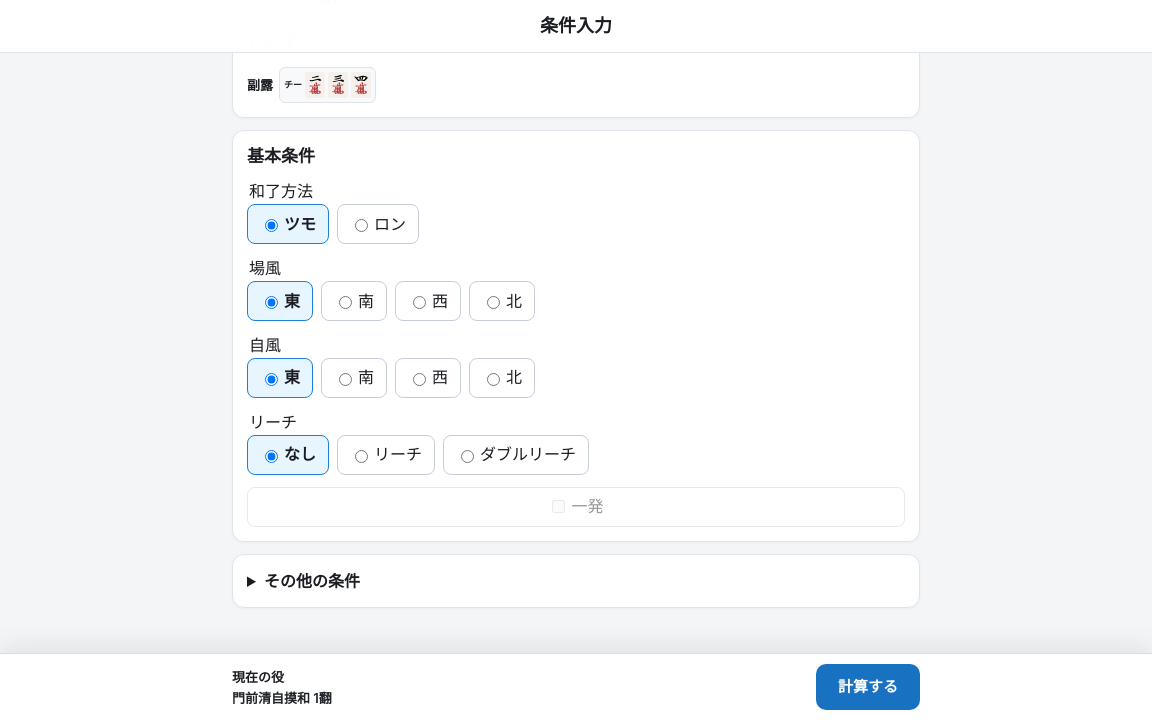
Scenario: ConditionsPageView › uses policy-normalized state to clear dependent selections after ordinary condition changes
(page scrolled)
Click the heading "その他の条件": (312, 581) [264,571,360,591]
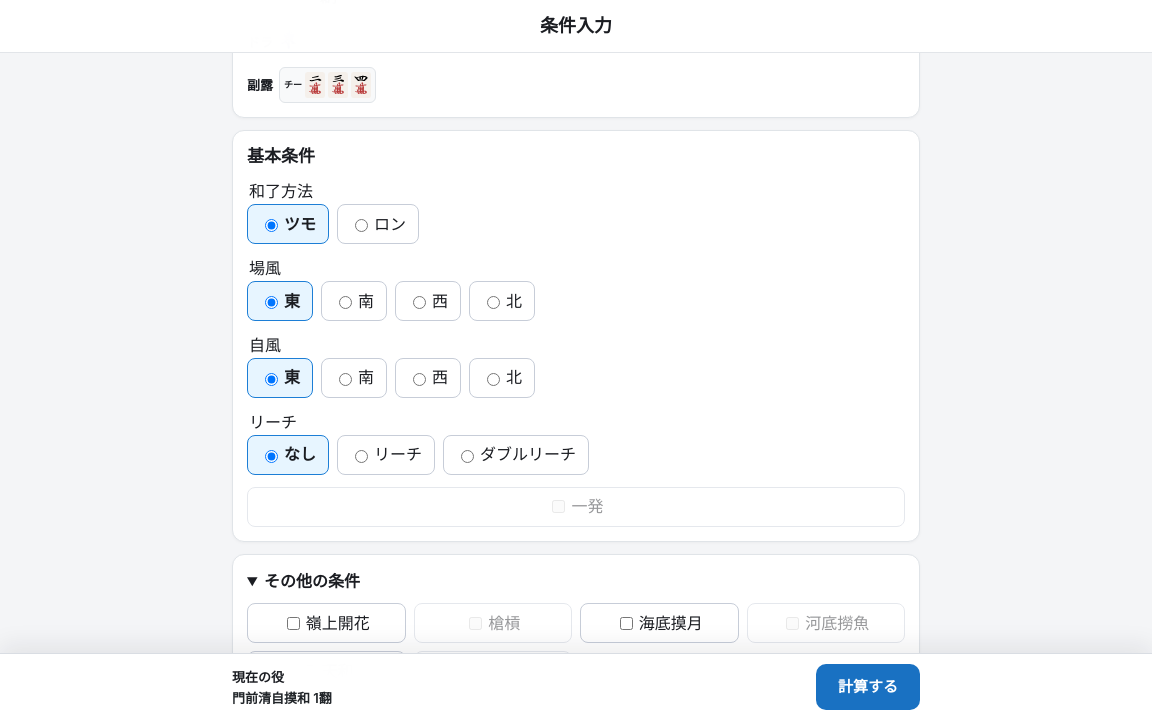
Click the checkbox labelled "嶺上開花": (293, 623) [287,617,300,630]
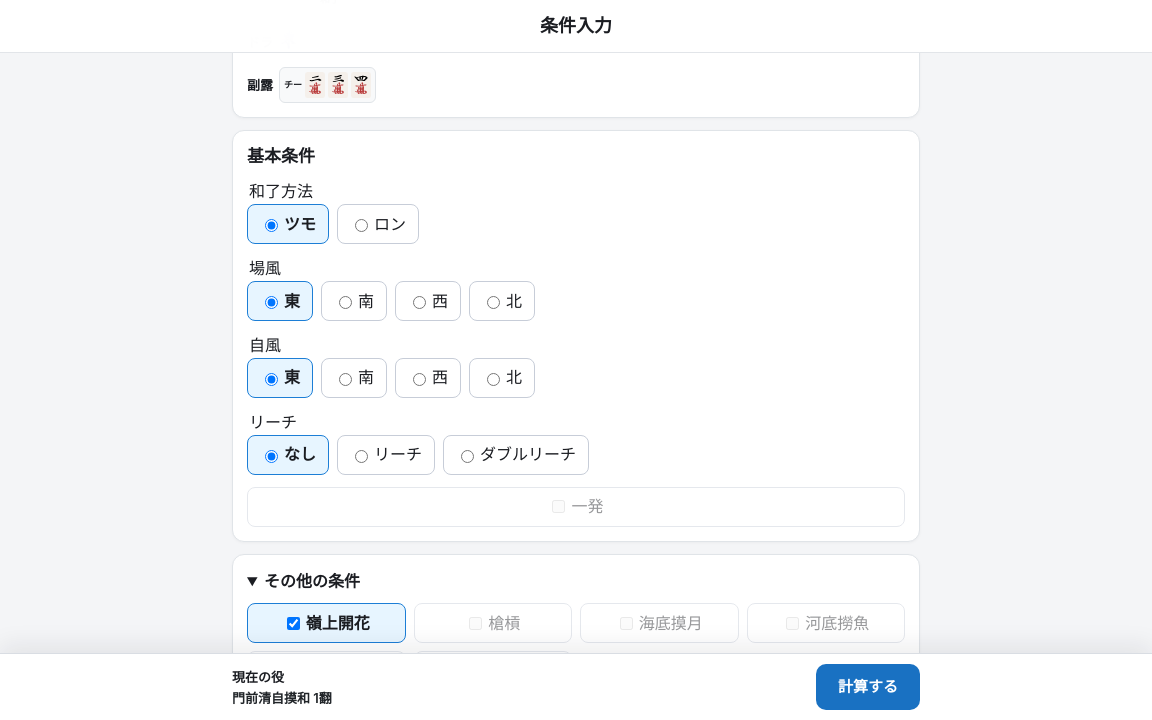
Check: the checkbox labelled "嶺上開花" is checked, box [287,617,300,630]
Click the radio button labelled "ロン": (362, 226) [355,219,368,232]
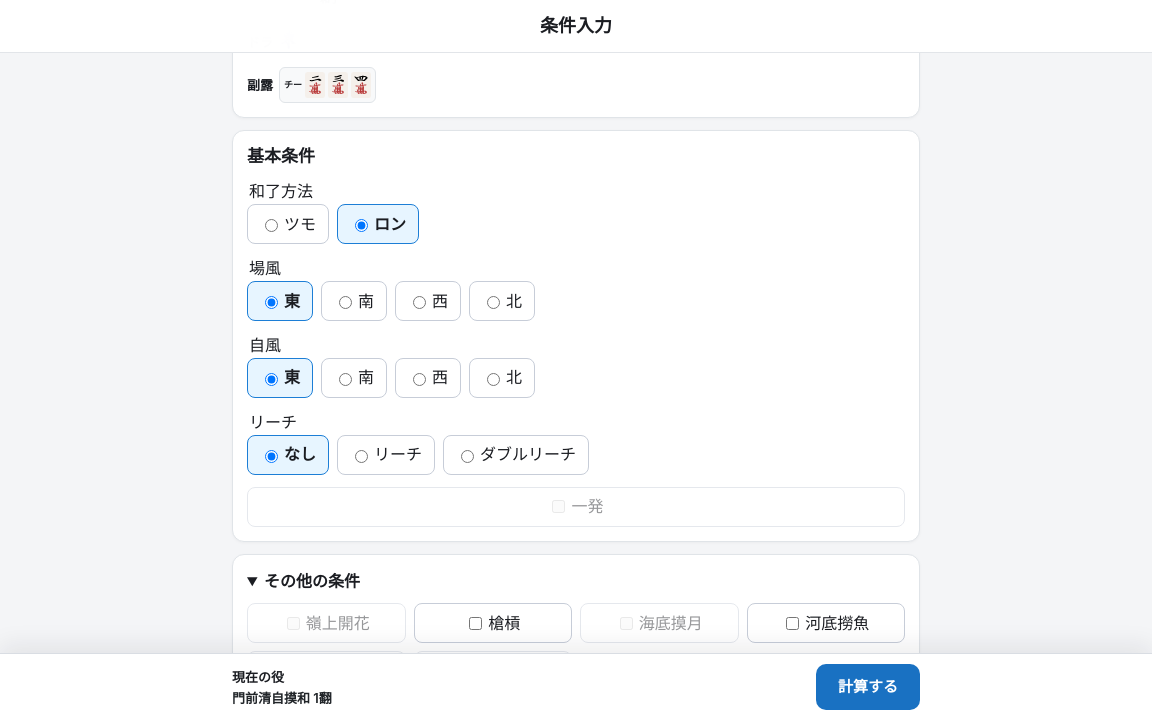
Check: the checkbox labelled "槍槓" is enabled, box [469,617,482,630]
